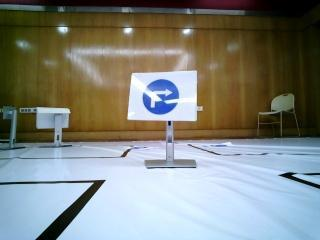right: (130, 76, 191, 122)
